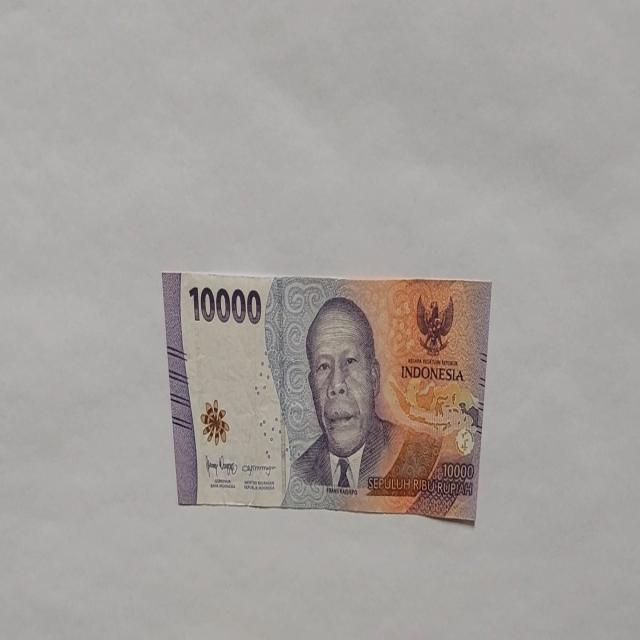sepuluh ribu rupiah: (162, 269, 492, 523)
